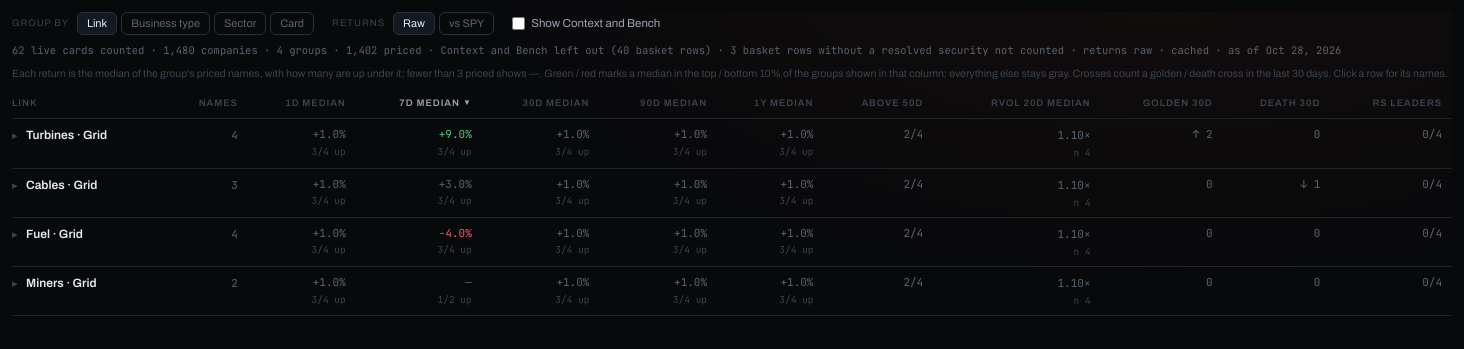
it: Rotation Map — group by and toggles › vs SPY subtracts SPY's own return per window and reads x/n above SPY
Click the button "vs SPY" at (466,23), box x1=439 y1=12 x2=494 y2=34
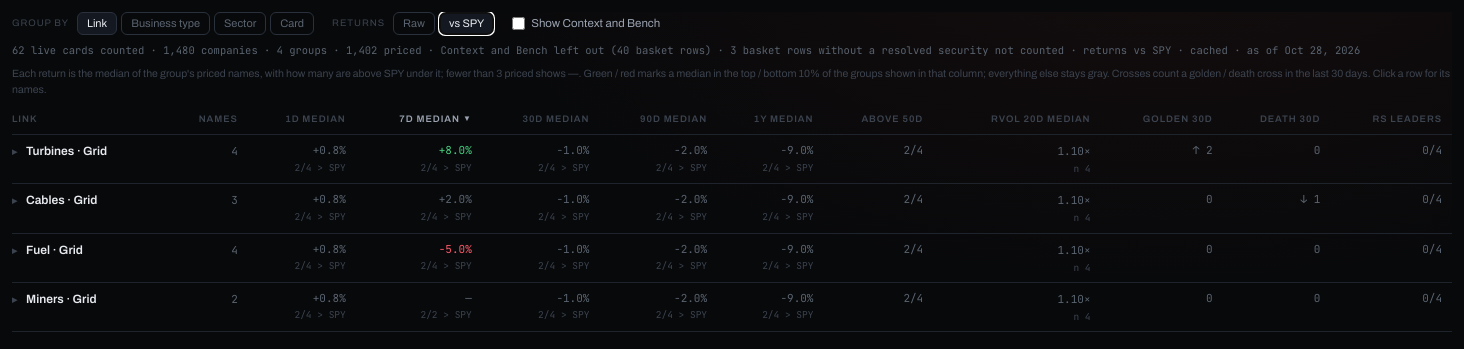
Expected: the text "—" is shown, x1=465 y1=291 x2=472 y2=305
Expected: the text "2/4 > SPY" below "+8.0%" is shown, x1=420 y1=160 x2=472 y2=174
Expected: the text "returns vs SPY" is shown, x1=12 y1=42 x2=1360 y2=56
Click the button "Raw" at (414,23), box x1=393 y1=12 x2=435 y2=34
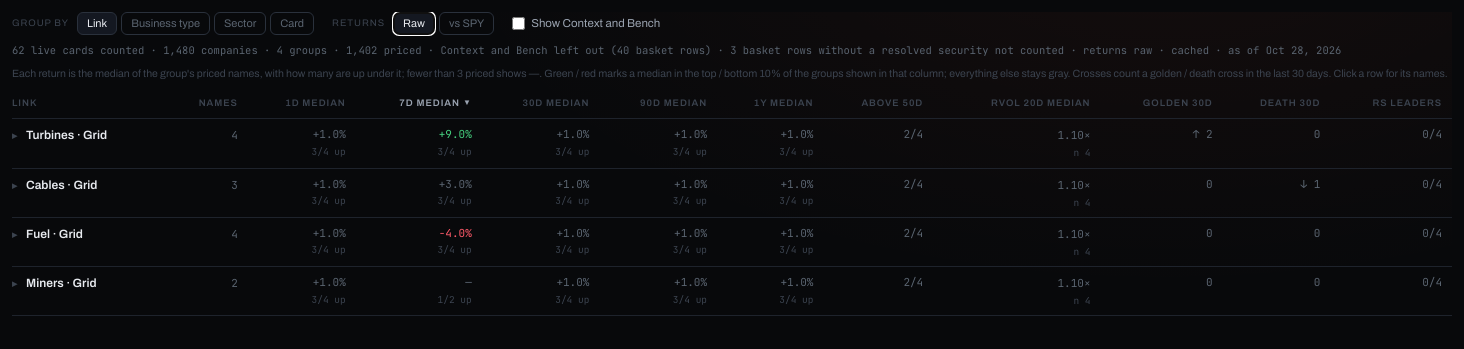
Expected: the text "+9.0%" is shown, x1=439 y1=127 x2=472 y2=141
